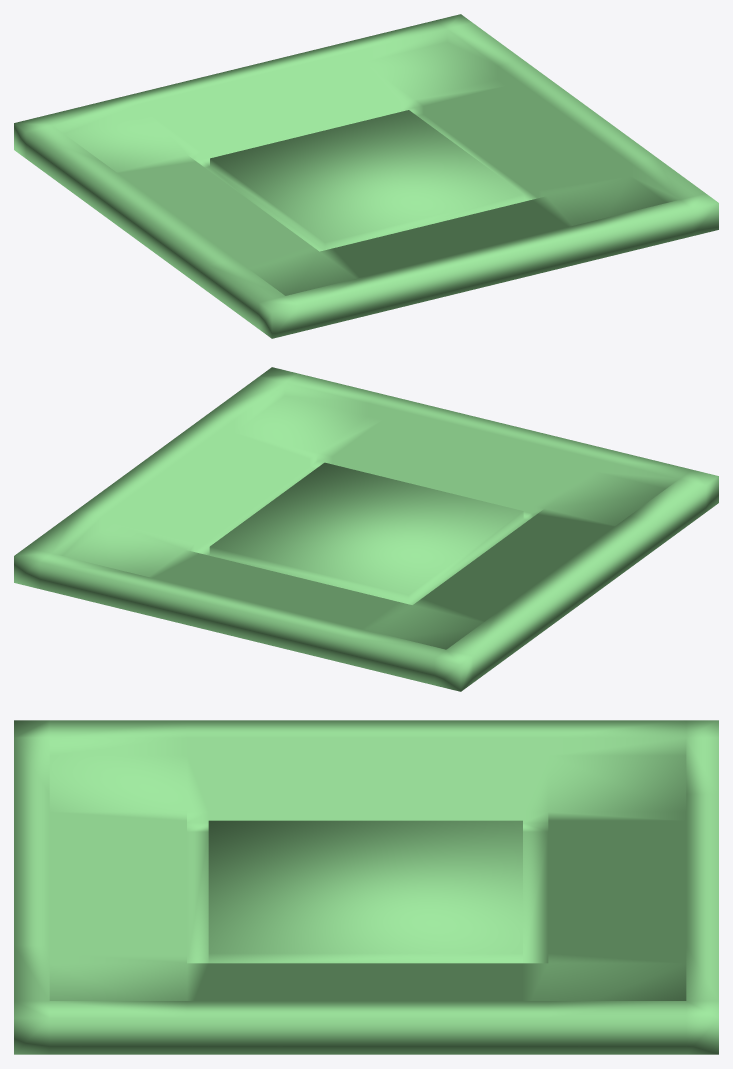
The model's file is SueloCuadrado.FBX.
The picture shows the model from 3 angles, top to bottom: view 1: azimuth 30°, elevation 25°; view 2: azimuth 150°, elevation 25°; view 3: azimuth 270°, elevation 25°; orthographic projection. The views are drawn at different scales.
Visible parts, largest first — view 1: SueloCuadrado_LP; view 2: SueloCuadrado_LP; view 3: SueloCuadrado_LP.
Part boxes in pixels (left/top/right/bottom): SueloCuadrado_LP: left=14, top=14, right=718, bottom=338; SueloCuadrado_LP: left=14, top=367, right=718, bottom=691; SueloCuadrado_LP: left=14, top=720, right=718, bottom=1054.
Bounding box in the file's own units: 1 × 0.0574 × 1.
